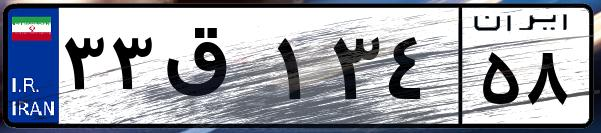1: (270, 28, 330, 110)
3: (330, 28, 385, 110), (57, 26, 110, 100), (110, 28, 158, 98)
4: (385, 28, 445, 110)
5: (475, 38, 525, 113)
8: (525, 38, 570, 115)
ق: (158, 20, 270, 120)
